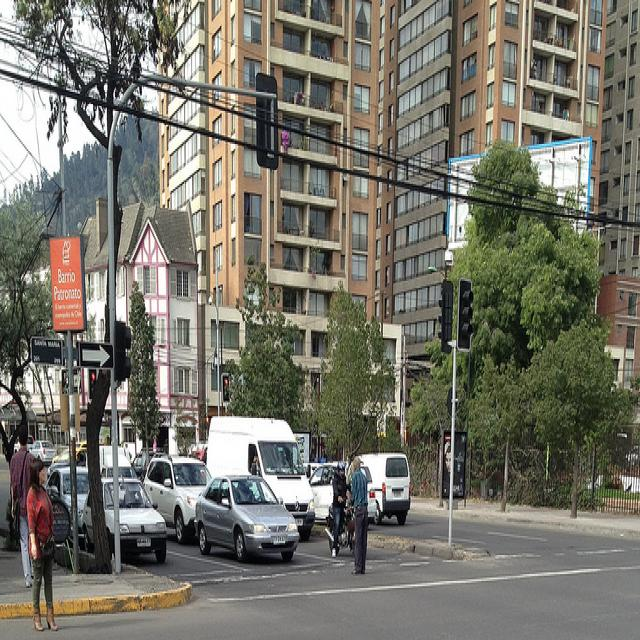motor: (324, 498, 355, 552)
